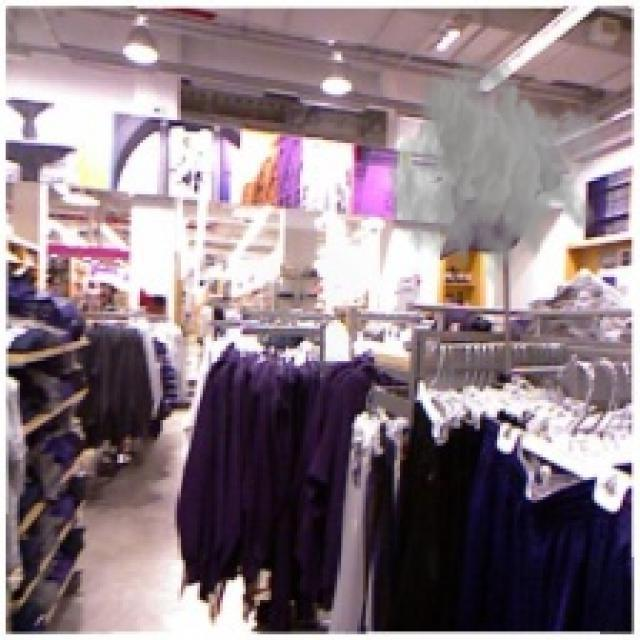Smoke: (386, 48, 606, 294)
